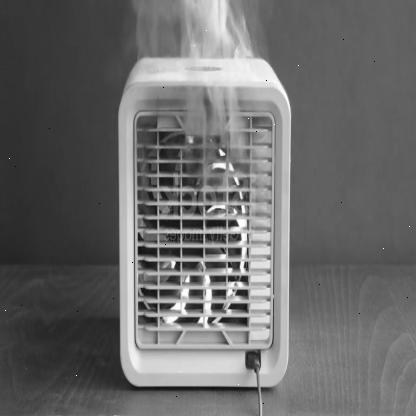smoke: (129, 1, 277, 176)
